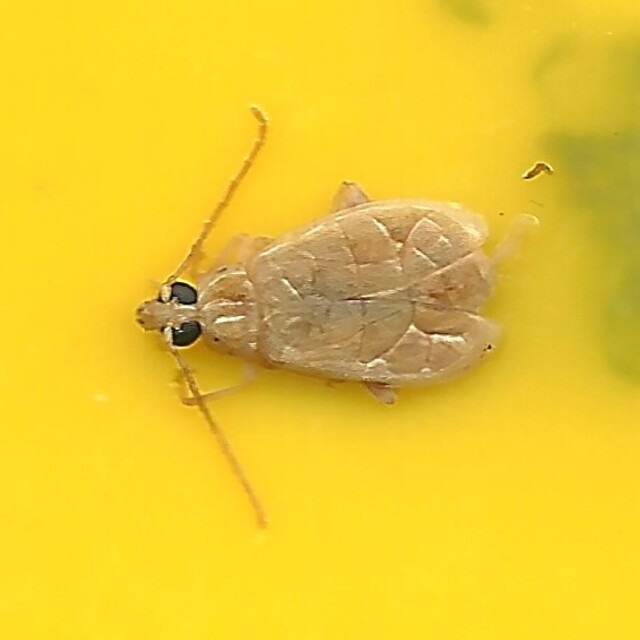Coleoptera: (134, 113, 506, 527)
